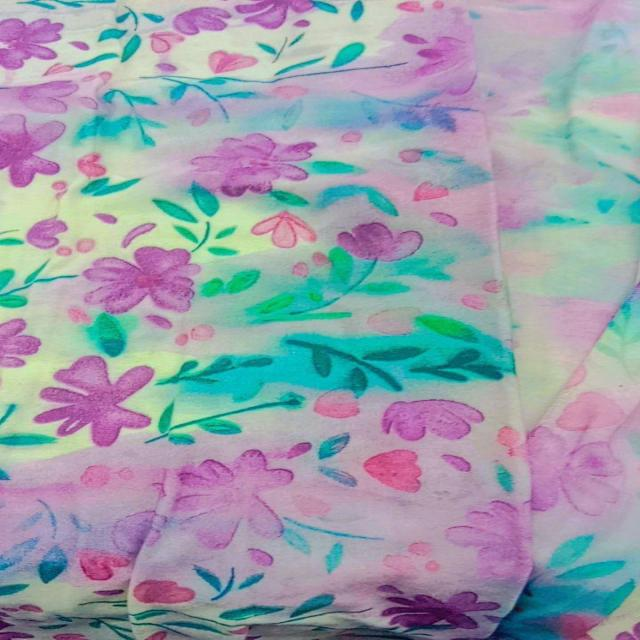baekra: (16, 18, 622, 609)
